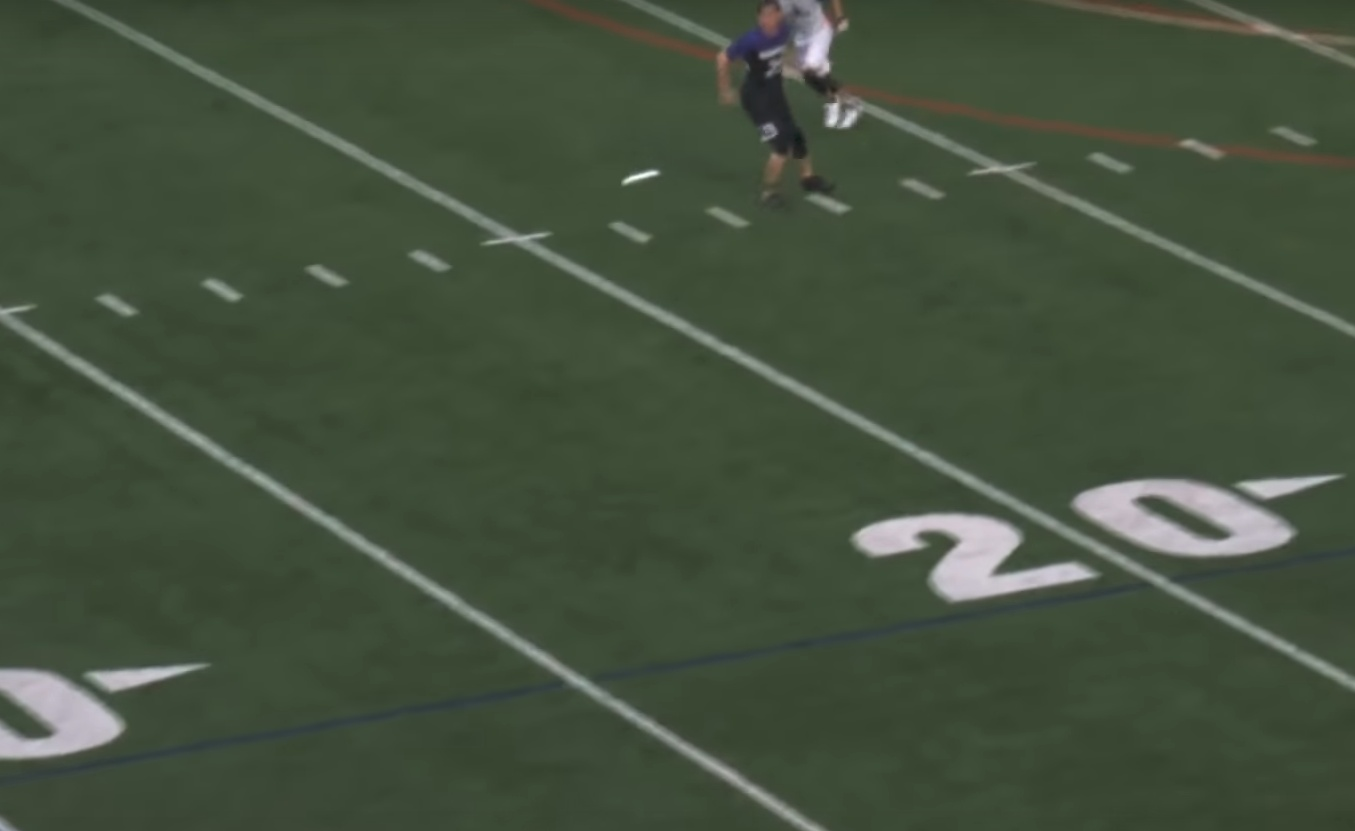frisbee: (620, 167, 662, 187)
